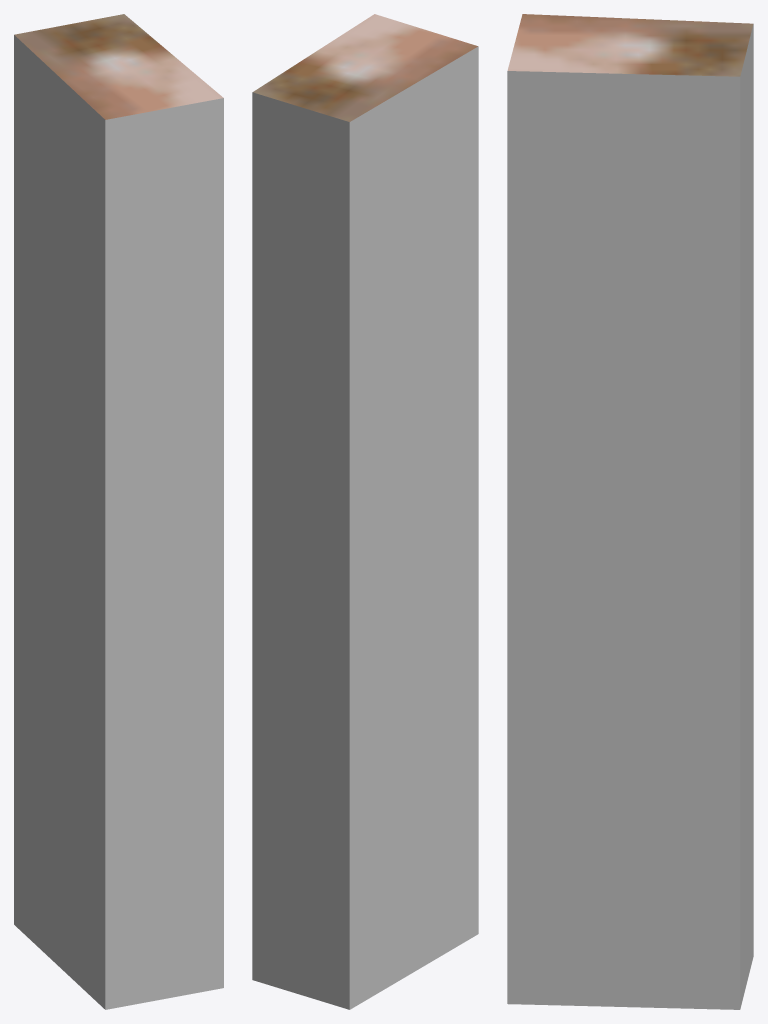
The model's file is DEBW_0010007THZE.gltf.
The picture shows the model from 3 angles, left to right: view 1: azimuth 30°, elevation 25°; view 2: azimuth 150°, elevation 25°; view 3: azimuth 270°, elevation 25°; orthographic projection. The views are drawn at different scales.
Visible parts, largest first — view 1: Z_UP; view 2: Z_UP; view 3: Z_UP.
Part boxes in pixels (x1,y1,x2,y2): Z_UP: [14, 14, 223, 1009]; Z_UP: [252, 14, 478, 1009]; Z_UP: [507, 14, 753, 1009].
Size of the model in its own units: 2.47 by 17.12 by 4.09.
2 materials, 1 textured.
